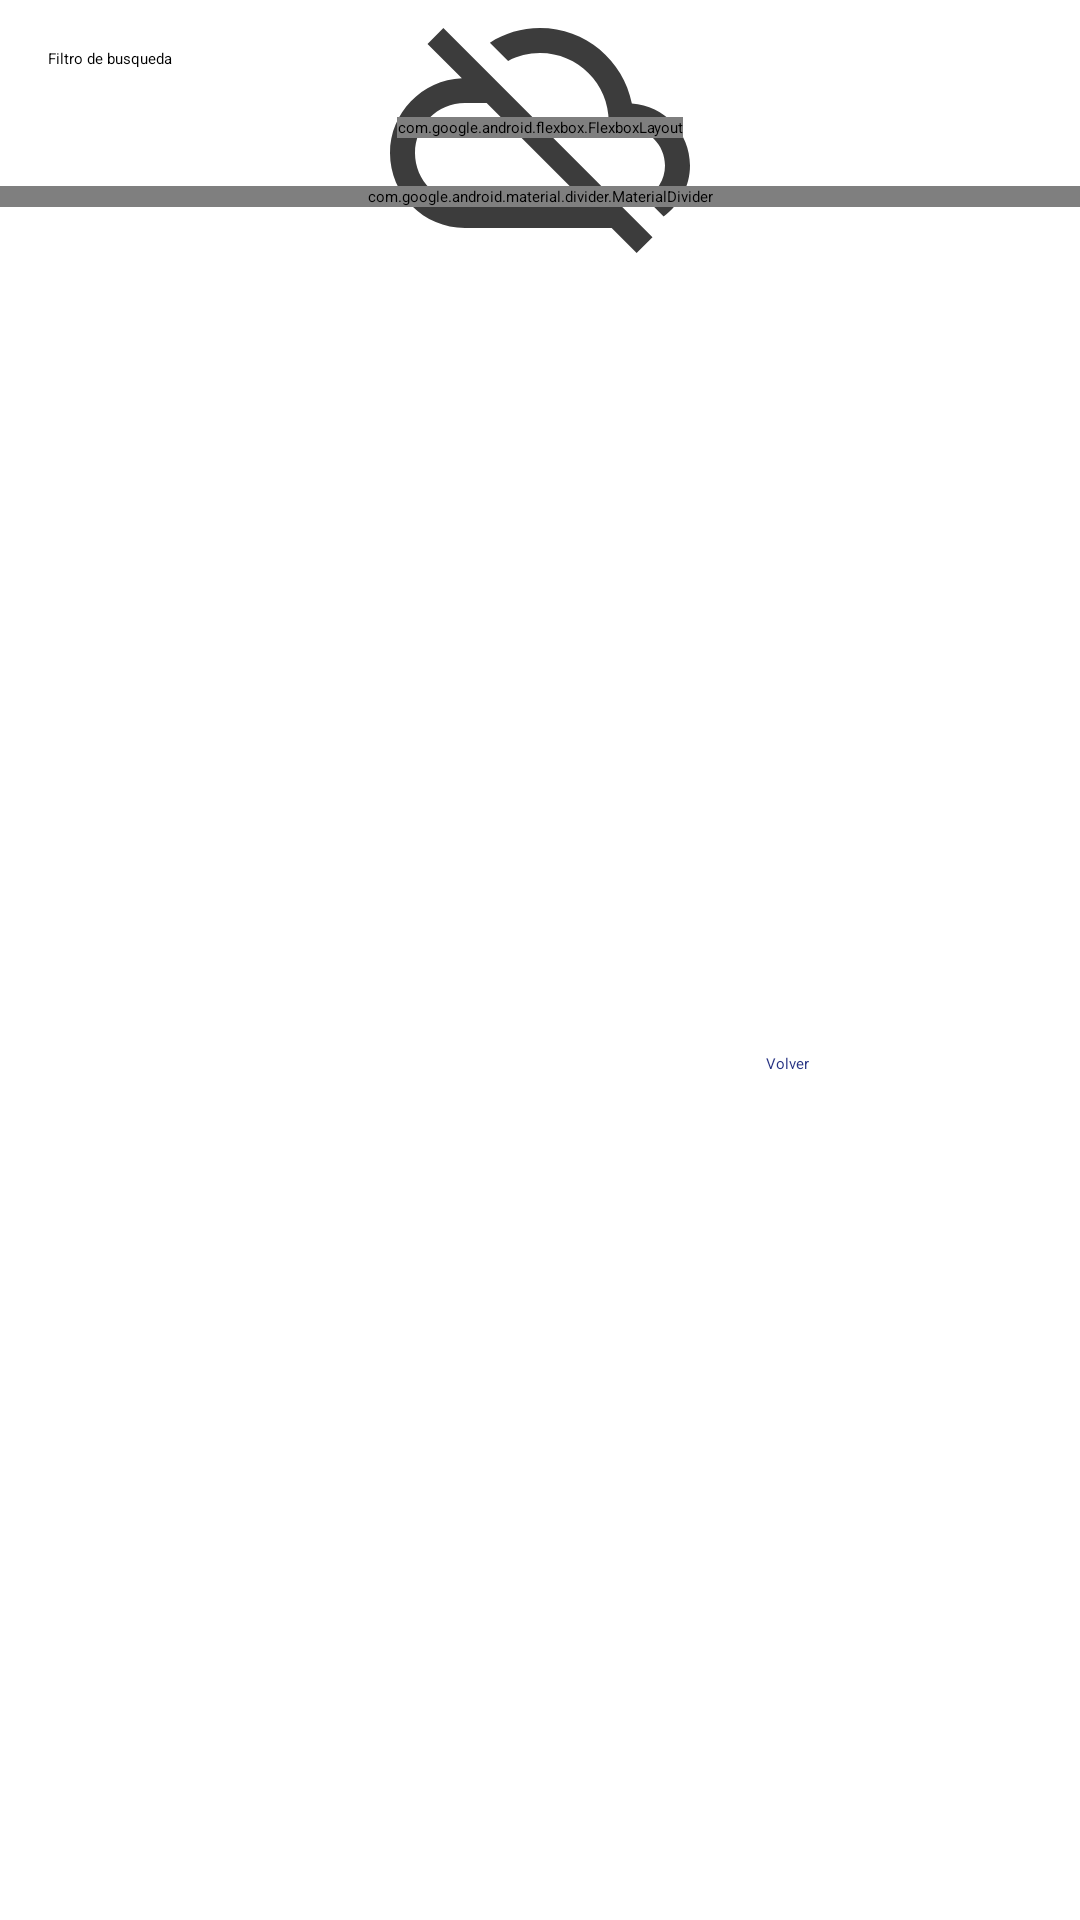

Named icons in this screenshot (1080w x 1920h) and their centers, [x,y]:
Error al intentar obtener la lista de usuarios desde la nube: [540,140]
